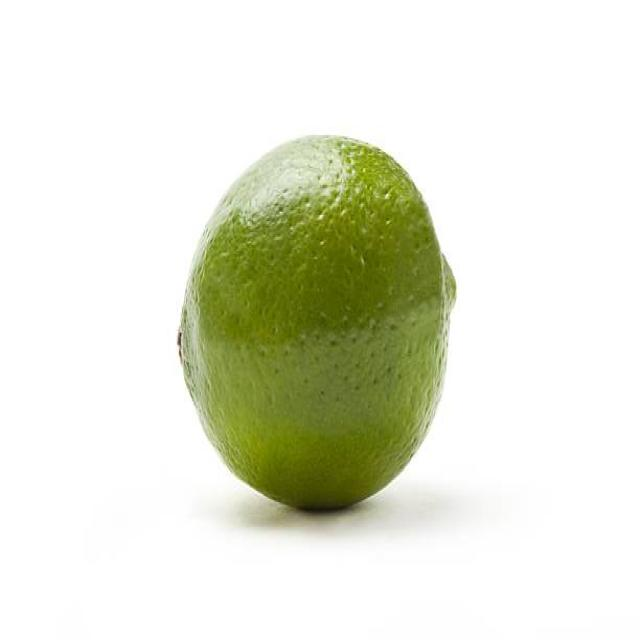Lemon: (175, 131, 459, 512)
